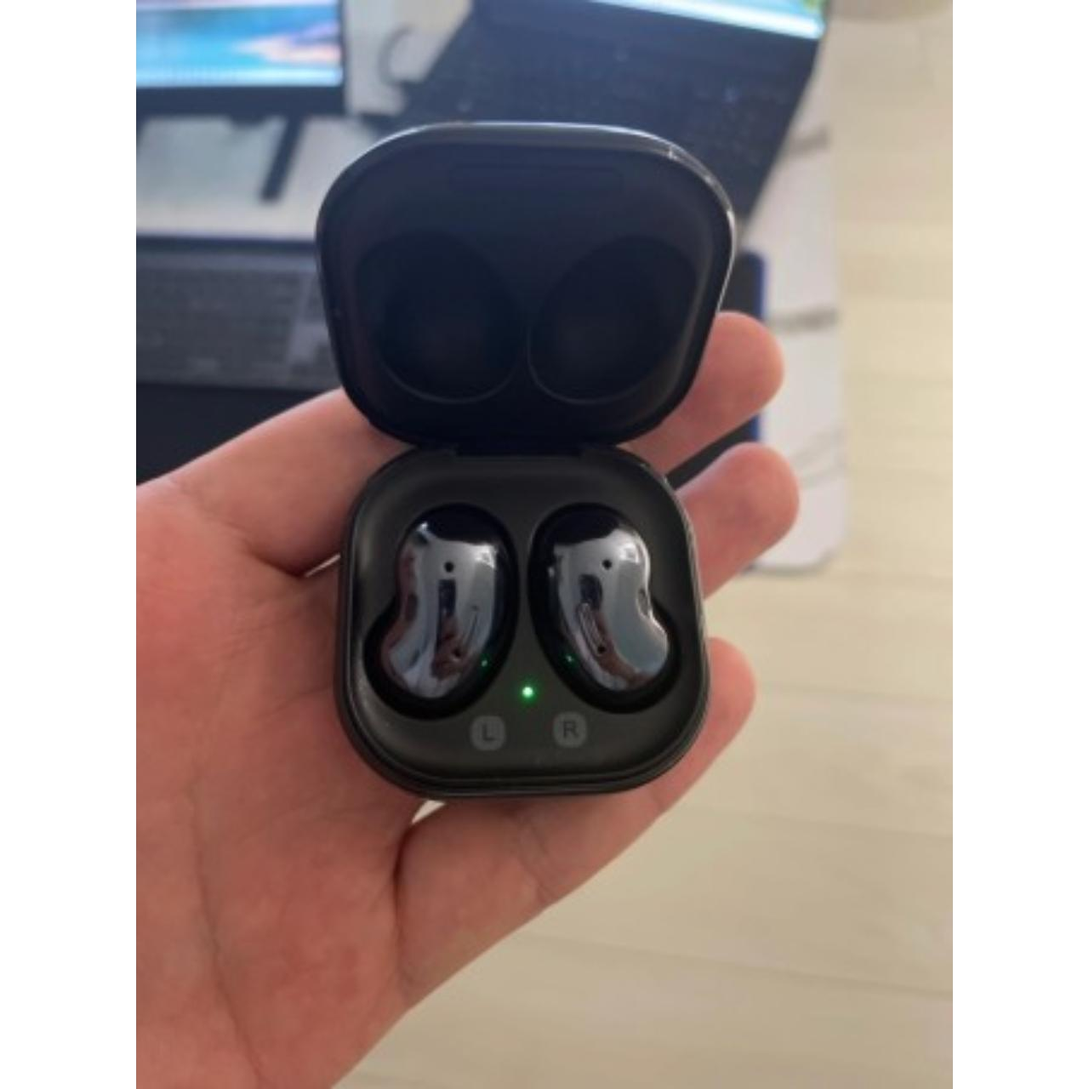Buds: (311, 112, 743, 807)
Buds_Units: (362, 489, 524, 727), (523, 495, 689, 717)
